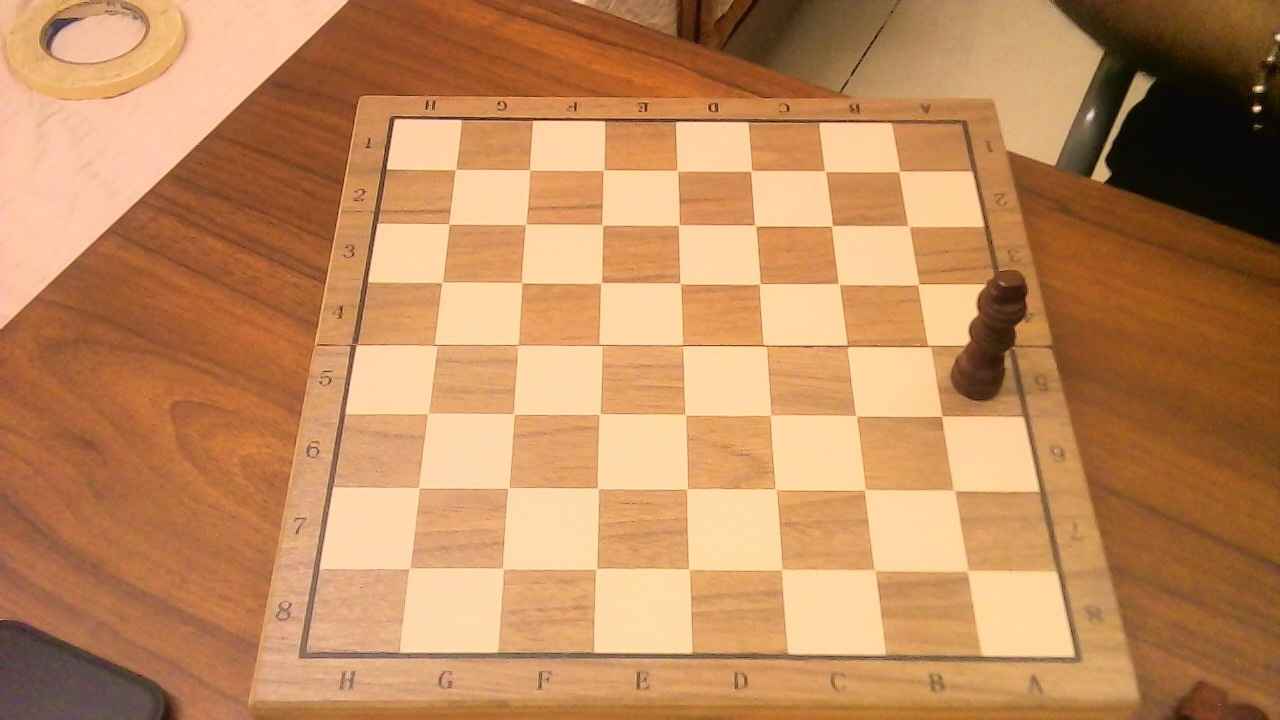k: (945, 257, 1042, 405)
